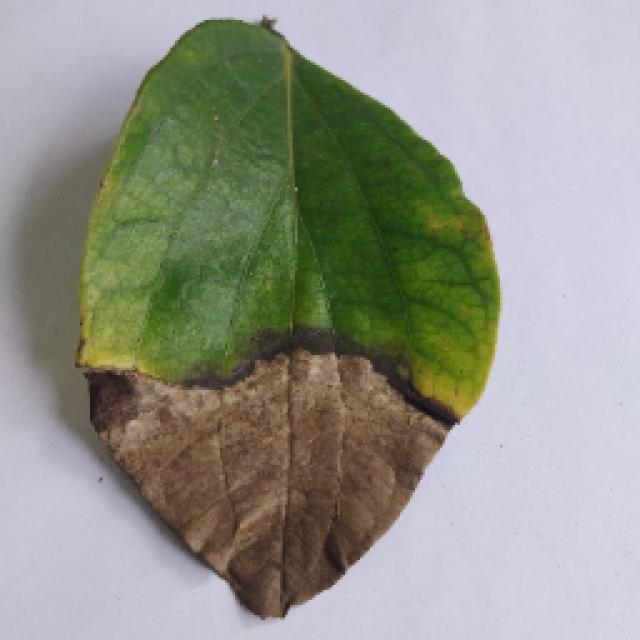footrot: (73, 20, 495, 618)
